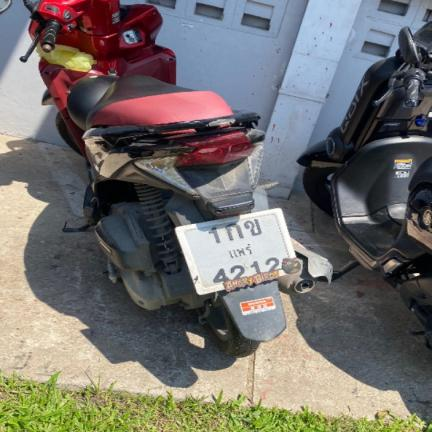1: (206, 226, 225, 246), (246, 259, 264, 274)
2: (225, 262, 249, 280), (261, 254, 283, 272)
4: (206, 265, 231, 285)
A01: (220, 222, 247, 242)
A02: (240, 217, 265, 237)
PRE: (225, 242, 256, 260)
